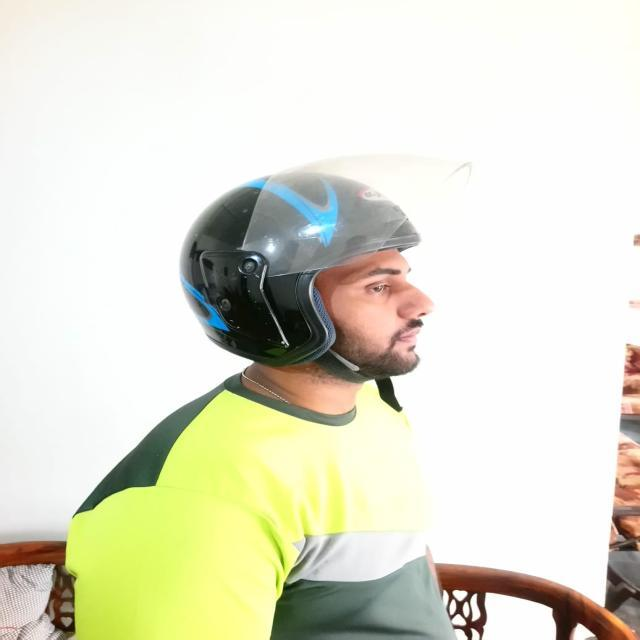helmet: (137, 115, 501, 423)
